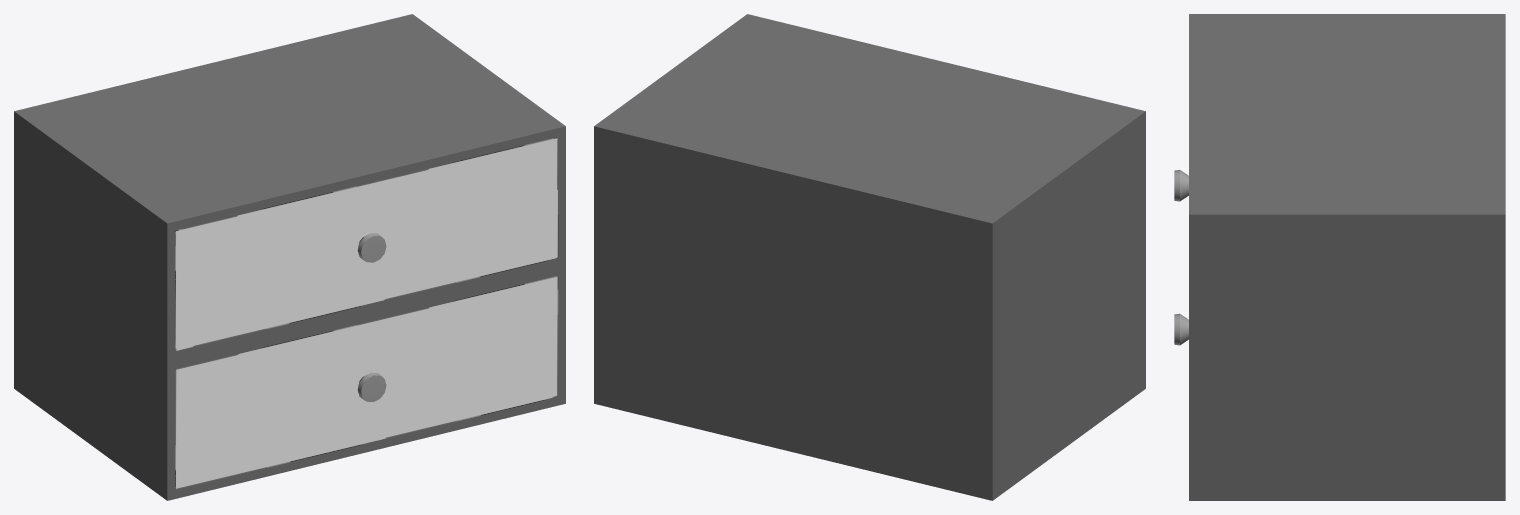
File: drawer_modern.glb
The picture shows the model from 3 angles, left to right: view 1: azimuth 30°, elevation 25°; view 2: azimuth 150°, elevation 25°; view 3: azimuth 270°, elevation 25°; orthographic projection. The views are drawn at different scales.
Parts seen in each view (by area): view 1: Box003; view 2: Box003; view 3: Box003.
Part boxes in pixels (<box>): Box003: <box>14,14,565,500</box>; Box003: <box>594,14,1145,500</box>; Box003: <box>1174,14,1505,500</box>.
Bounding box in the file's own units: 0.12 × 0.0798 × 0.0838.
1 material, 1 textured.
